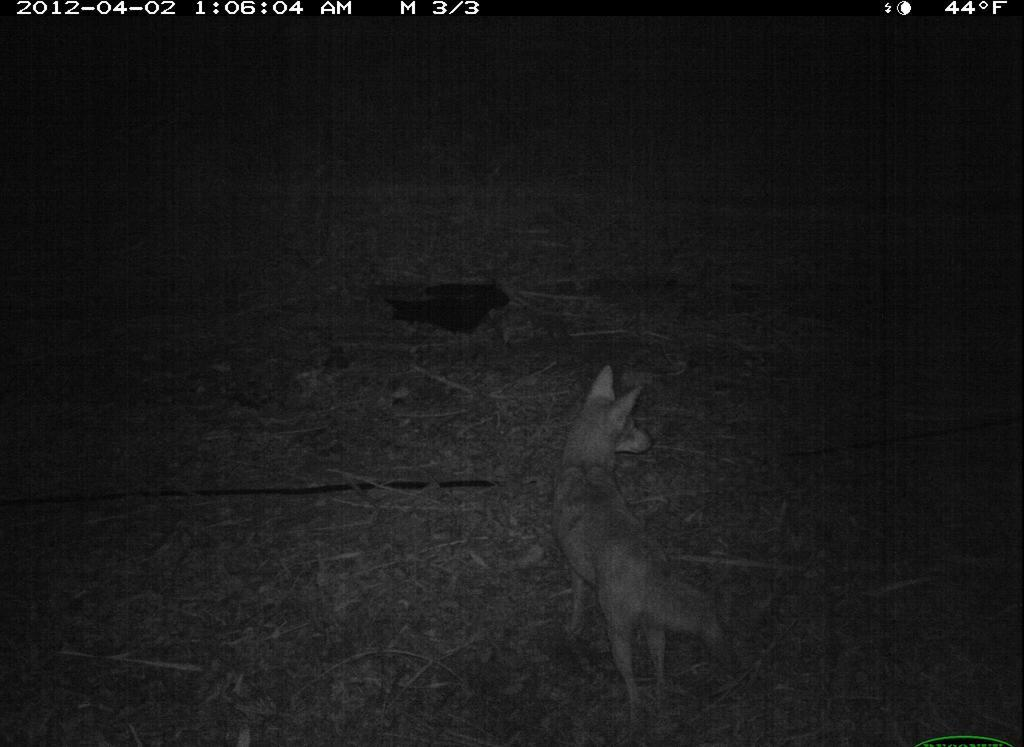coyote: (545, 349, 734, 745)
